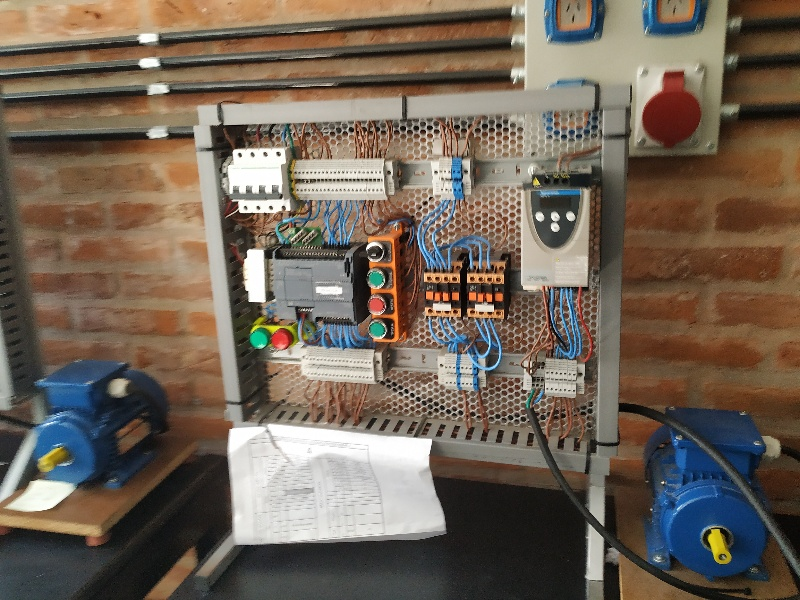Tablero 4: (203, 118, 605, 457)
